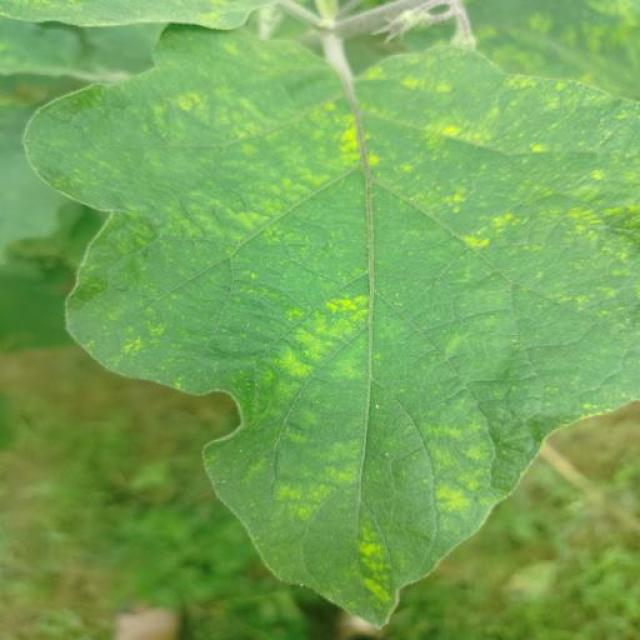leaf_spot: (272, 284, 365, 388), (439, 435, 496, 556), (295, 272, 375, 333), (268, 471, 356, 513), (322, 96, 370, 166), (235, 169, 335, 201), (264, 327, 326, 376), (360, 530, 400, 604), (172, 90, 225, 126), (434, 467, 470, 516), (439, 122, 491, 148), (595, 208, 629, 235), (460, 230, 490, 251)
